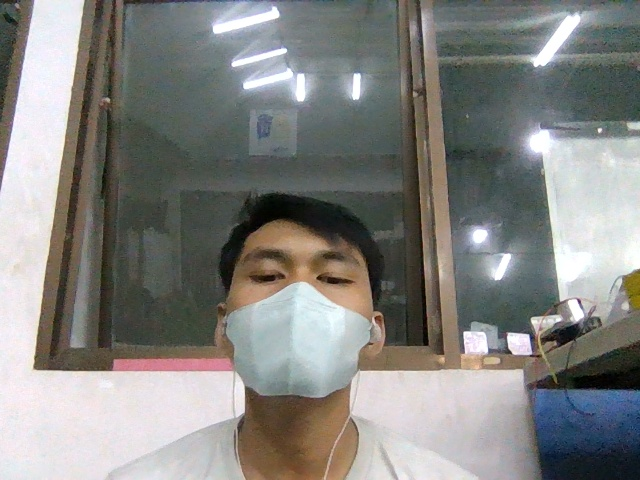mask_on: (225, 281, 372, 397)
